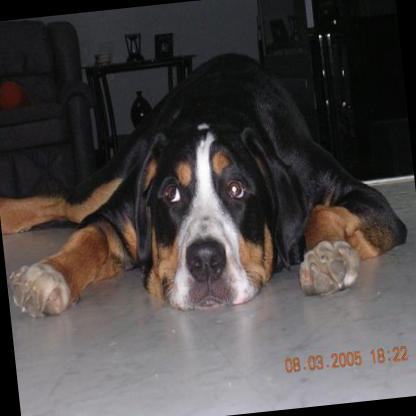Greater_Swiss_Mountain_dog: (0, 33, 413, 331)
